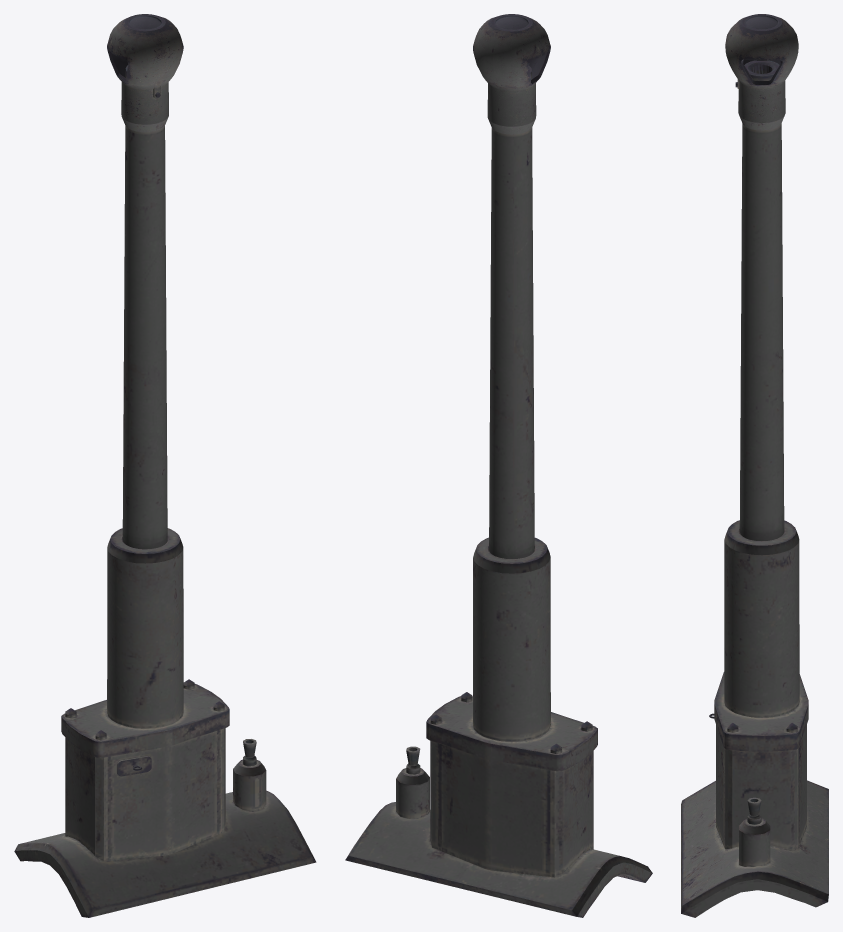
Rendered from Gun_01.glb.
The picture shows the model from 3 angles, left to right: view 1: azimuth 30°, elevation 25°; view 2: azimuth 150°, elevation 25°; view 3: azimuth 270°, elevation 25°; orthographic projection. The views are drawn at different scales.
Visible parts, largest first — view 1: set_0_group_0; view 2: set_0_group_0; view 3: set_0_group_0.
Boxes of the visible parts, box(x1,y1,x2,y2) form: set_0_group_0: box(14, 14, 316, 917); set_0_group_0: box(345, 14, 652, 917); set_0_group_0: box(681, 14, 828, 917).
Size of the model in its own units: 0.789 by 2.8 by 0.4509.
1 material, 1 textured.
